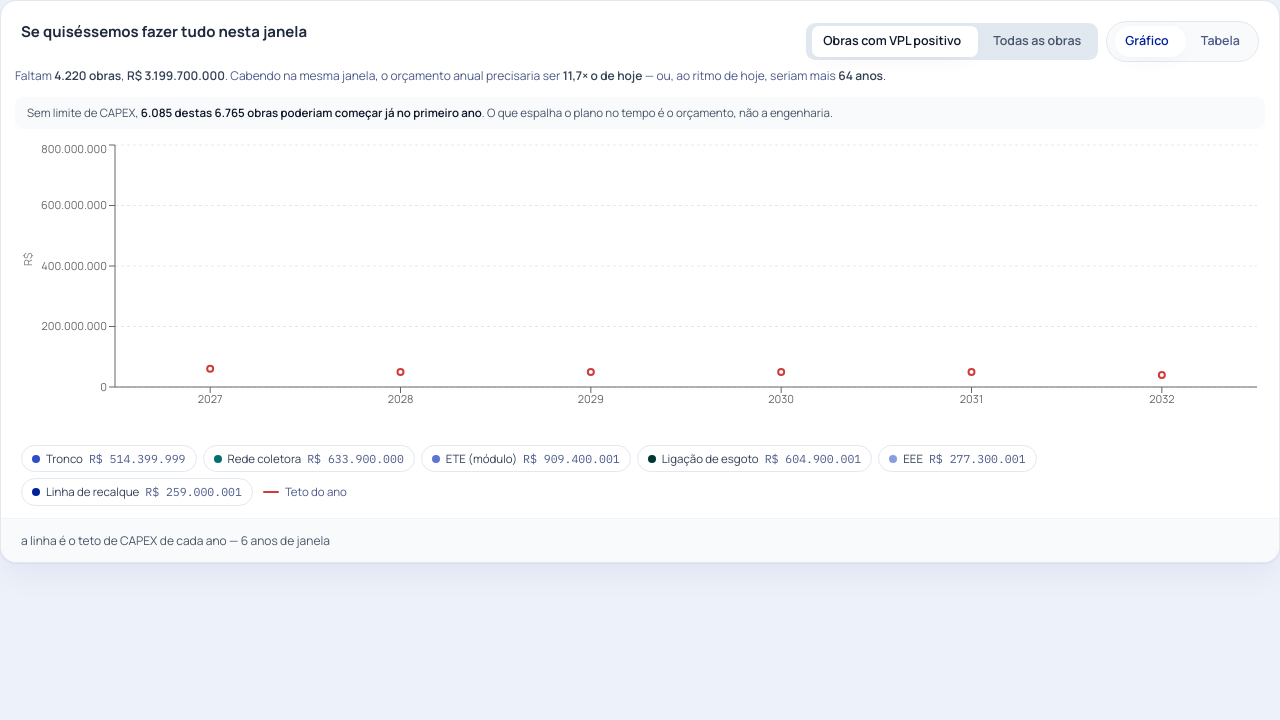
Test case: o cenário anual de CAPEX › trocar o escopo troca os dois números, e não só um
Click the radio button labelled "Todas as obras" at (1037, 41), box top-left (979, 26), bottom-right (1095, 57)
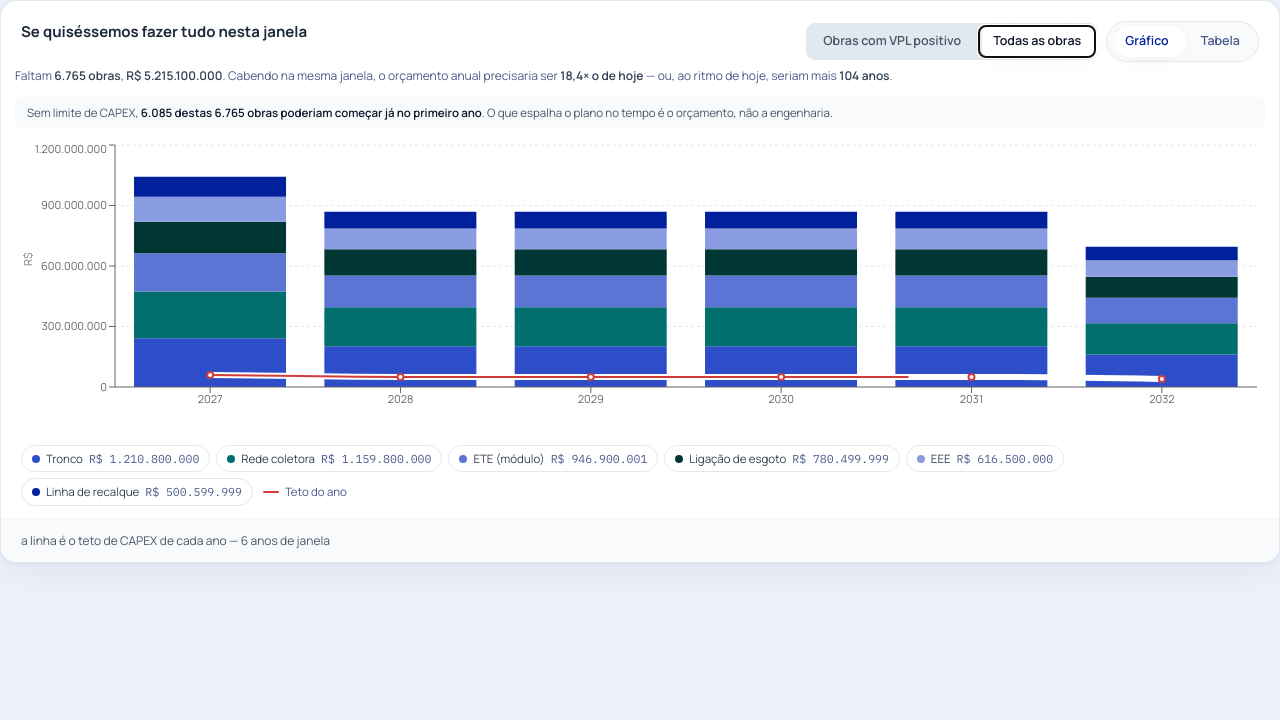
Result: the text "18,4× o de hoje" is shown at top-left (560, 67), bottom-right (643, 84)
Result: the text "104 anos" is shown at top-left (839, 67), bottom-right (890, 84)
Result: the text "11,7× o de hoje" is gone
